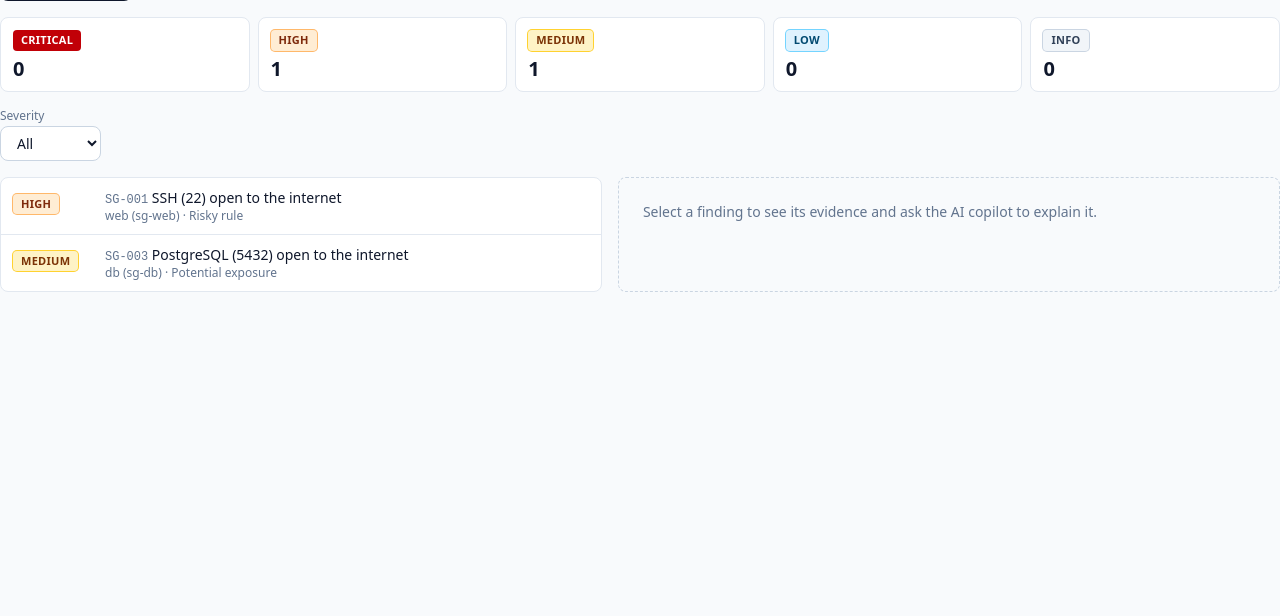
Test: FindingsPage › explains a selected finding end to end
Click the button "SG-001".
click(301, 206)  # box x1=1 y1=178 x2=601 y2=234
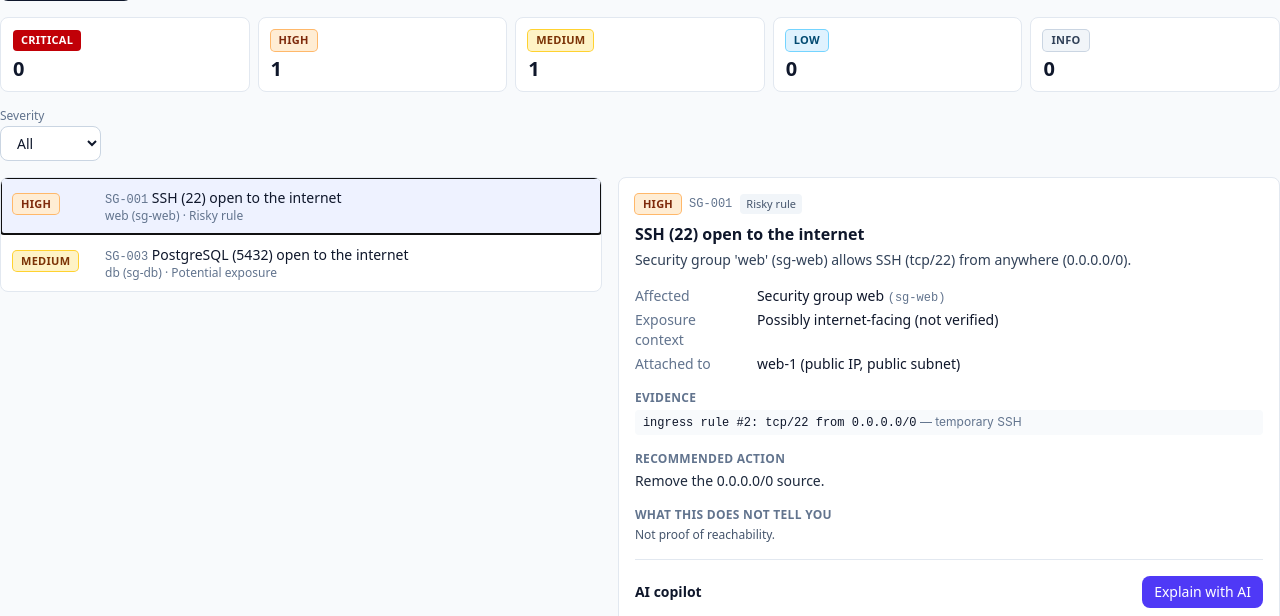
Click the button "Explain with AI".
click(1203, 592)  # box x1=1142 y1=576 x2=1263 y2=608
(page scrolled)
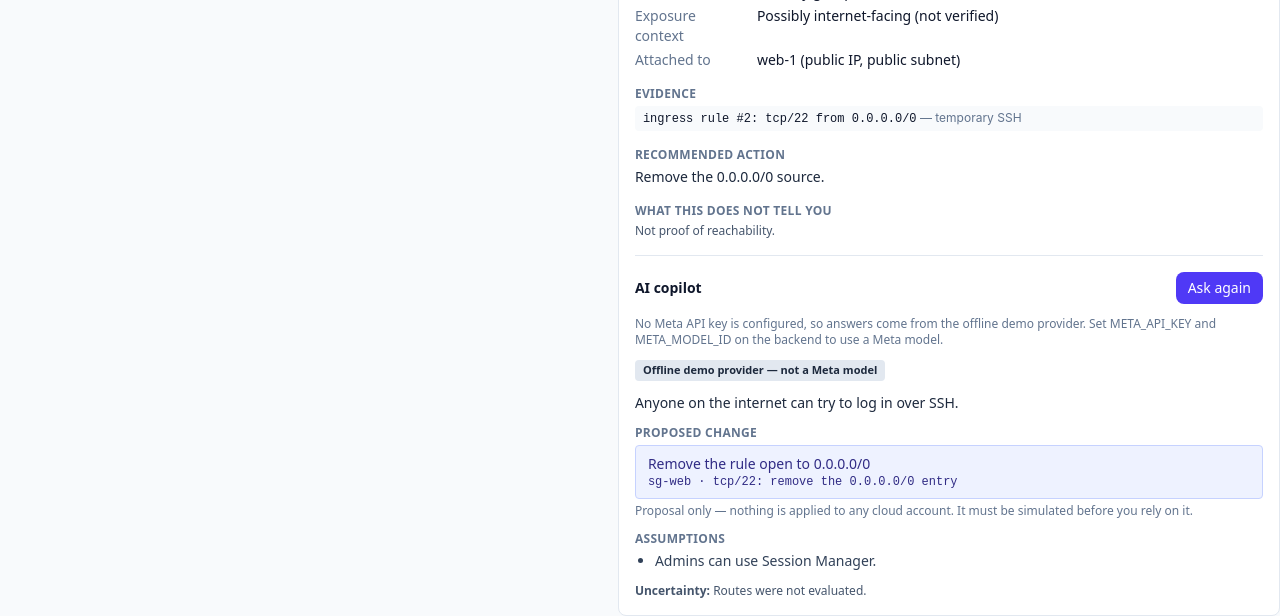
Expected: the text "Anyone on the internet can try to log in over SSH." is shown, x1=635 y1=392 x2=958 y2=412
Expected: the text "Offline demo provider — not a Meta model" is shown, x1=635 y1=360 x2=885 y2=380
